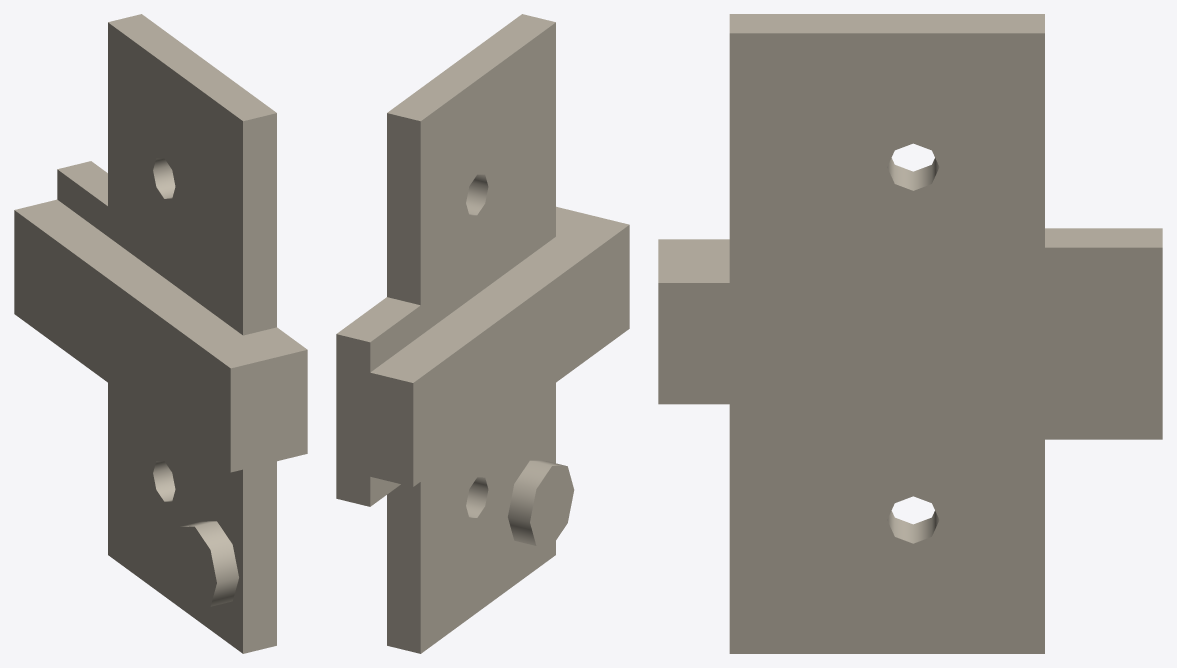
3 renders of one model, left to right at view 1: azimuth 30°, elevation 25°; view 2: azimuth 150°, elevation 25°; view 3: azimuth 270°, elevation 25°, orthographic. The views are drawn at different scales.
Visible parts, largest first — view 1: bau0006168467; view 2: bau0006168467; view 3: bau0006168467.
Part boxes in pixels (box(x1,y1,x2,y2)): bau0006168467: box(14, 14, 307, 653); bau0006168467: box(336, 14, 629, 653); bau0006168467: box(658, 14, 1162, 653).
Bounding box in the file's own units: 8.5 × 56.3 × 41.47.
